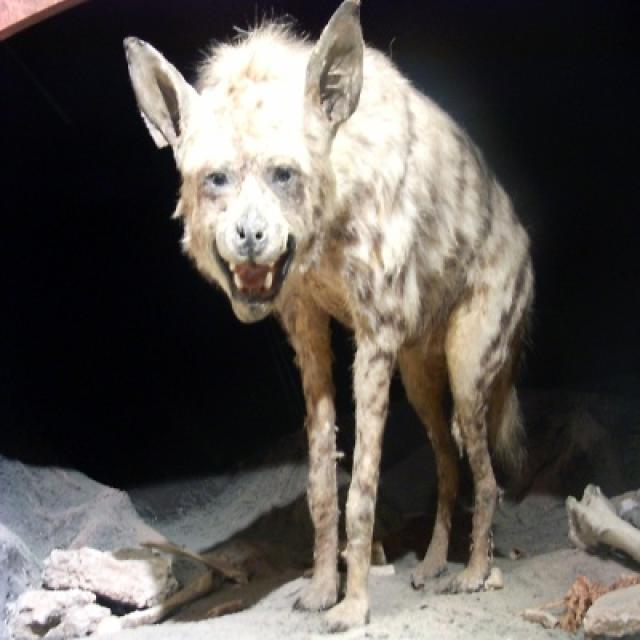hyena: (125, 0, 533, 629)
